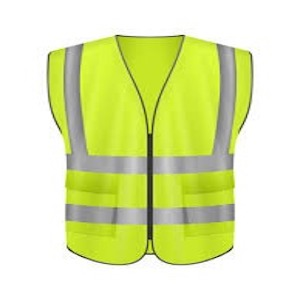vest: (47, 37, 252, 265)
